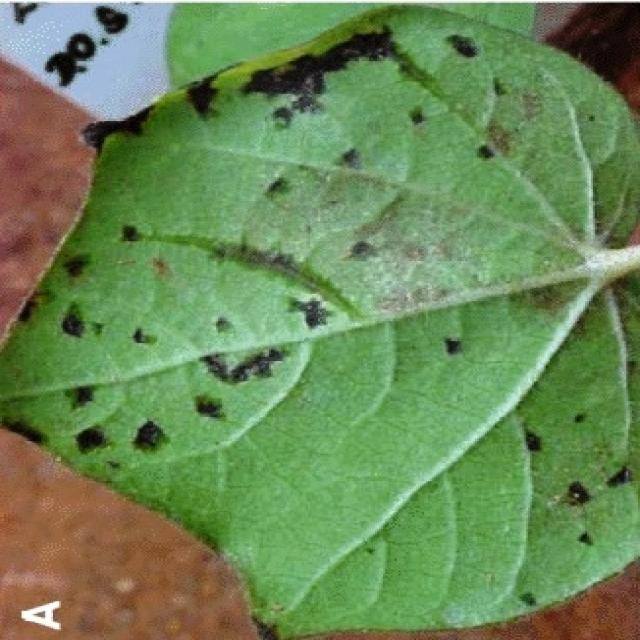Bacterial Blight: (103, 48, 495, 398)
